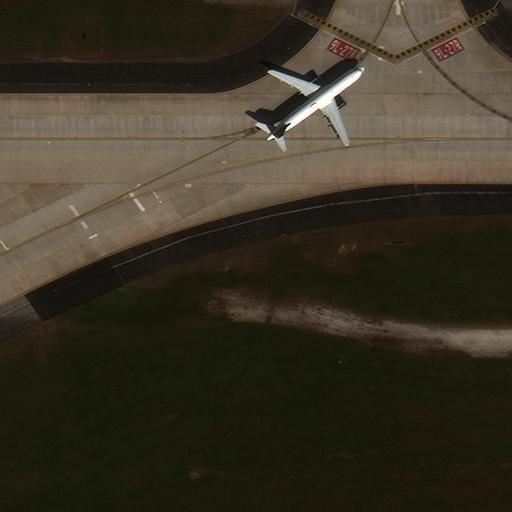Medium Civil Transport: (266, 67, 364, 143)
